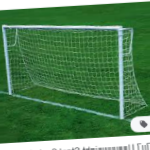goals: (1, 22, 149, 120)
